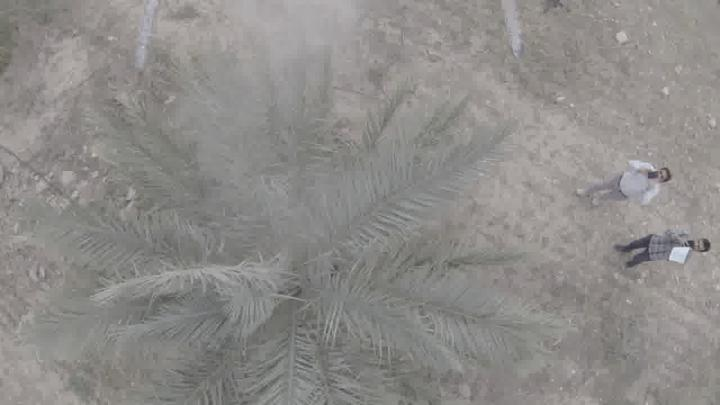Date-Palm-Crown: (180, 122, 428, 404)
